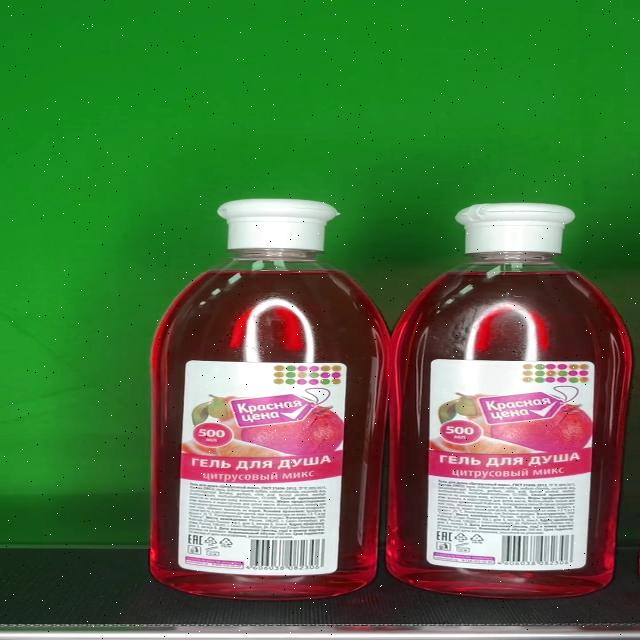Bottle: (150, 198, 392, 600), (389, 202, 633, 600)
Cap: (454, 203, 574, 254), (218, 198, 338, 248)
